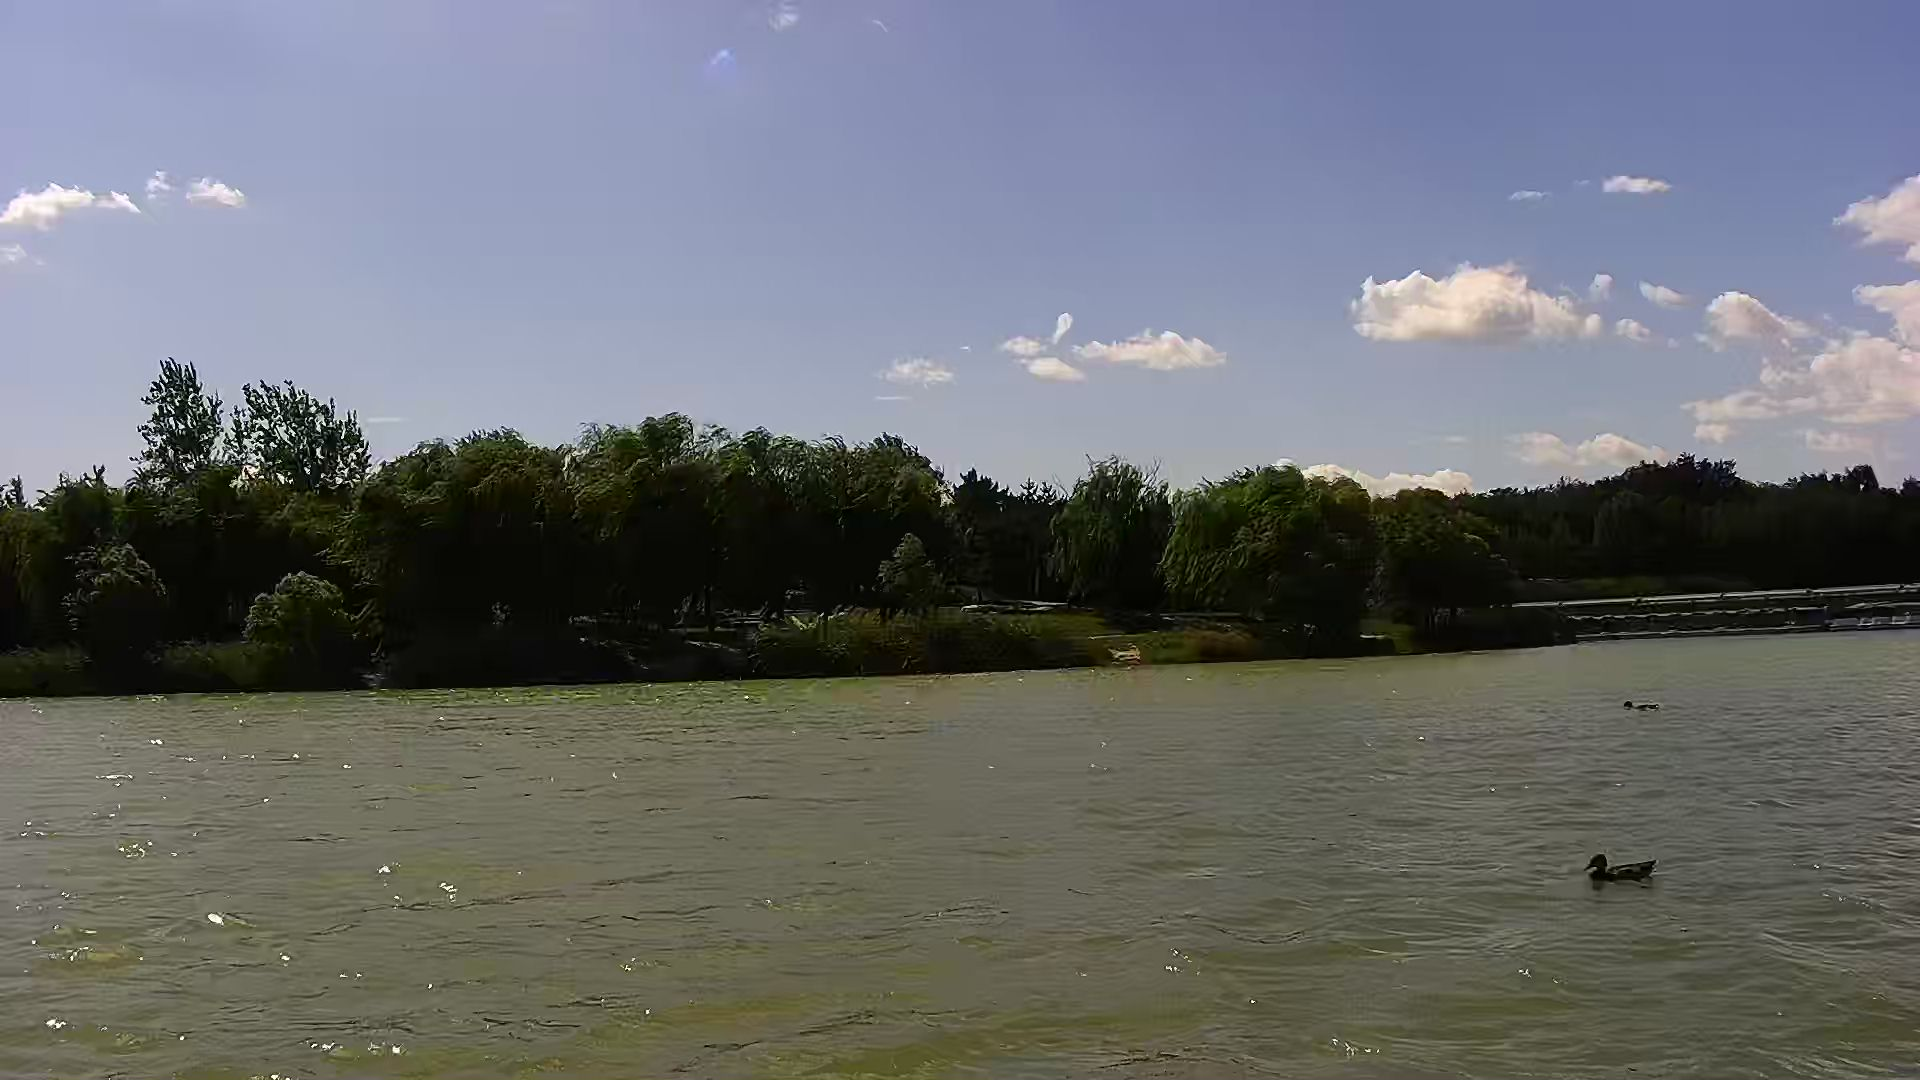animal: (1585, 849, 1660, 893), (1622, 694, 1655, 712)
harbor: (1578, 585, 1917, 626)
rock: (1112, 646, 1149, 671)
